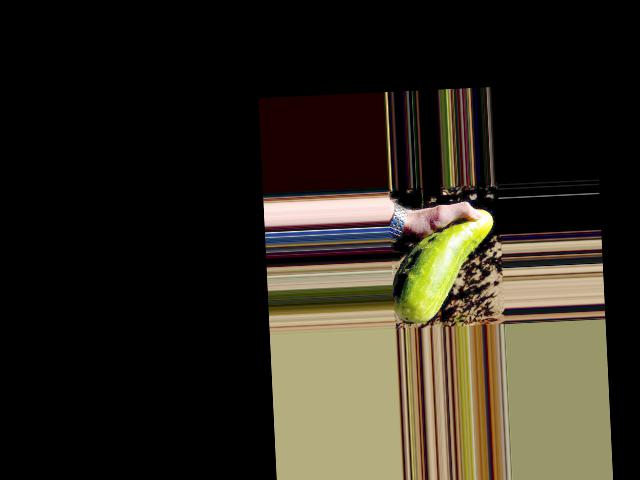cucumber: (388, 208, 497, 325)
